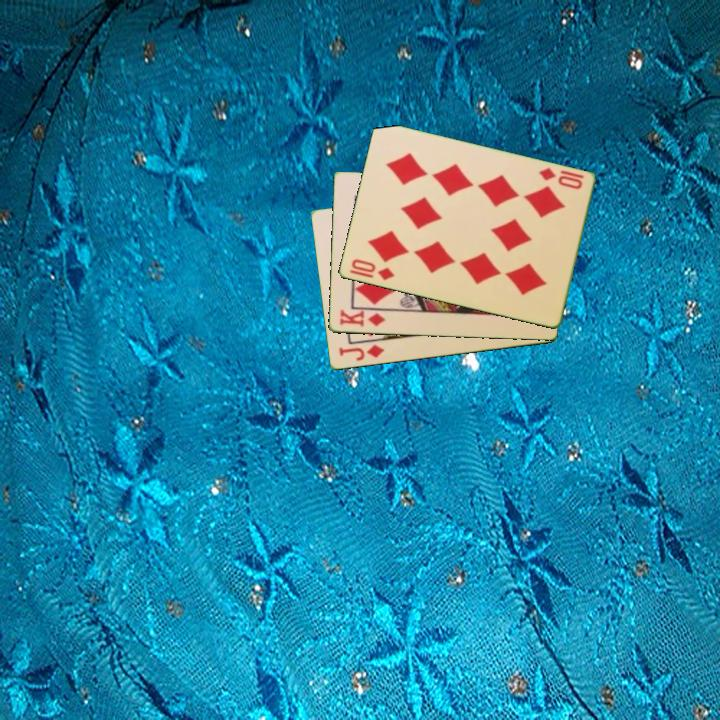10d: (347, 256, 397, 284), (535, 164, 585, 192)
Jd: (335, 341, 387, 364)
Kd: (336, 307, 388, 330)
